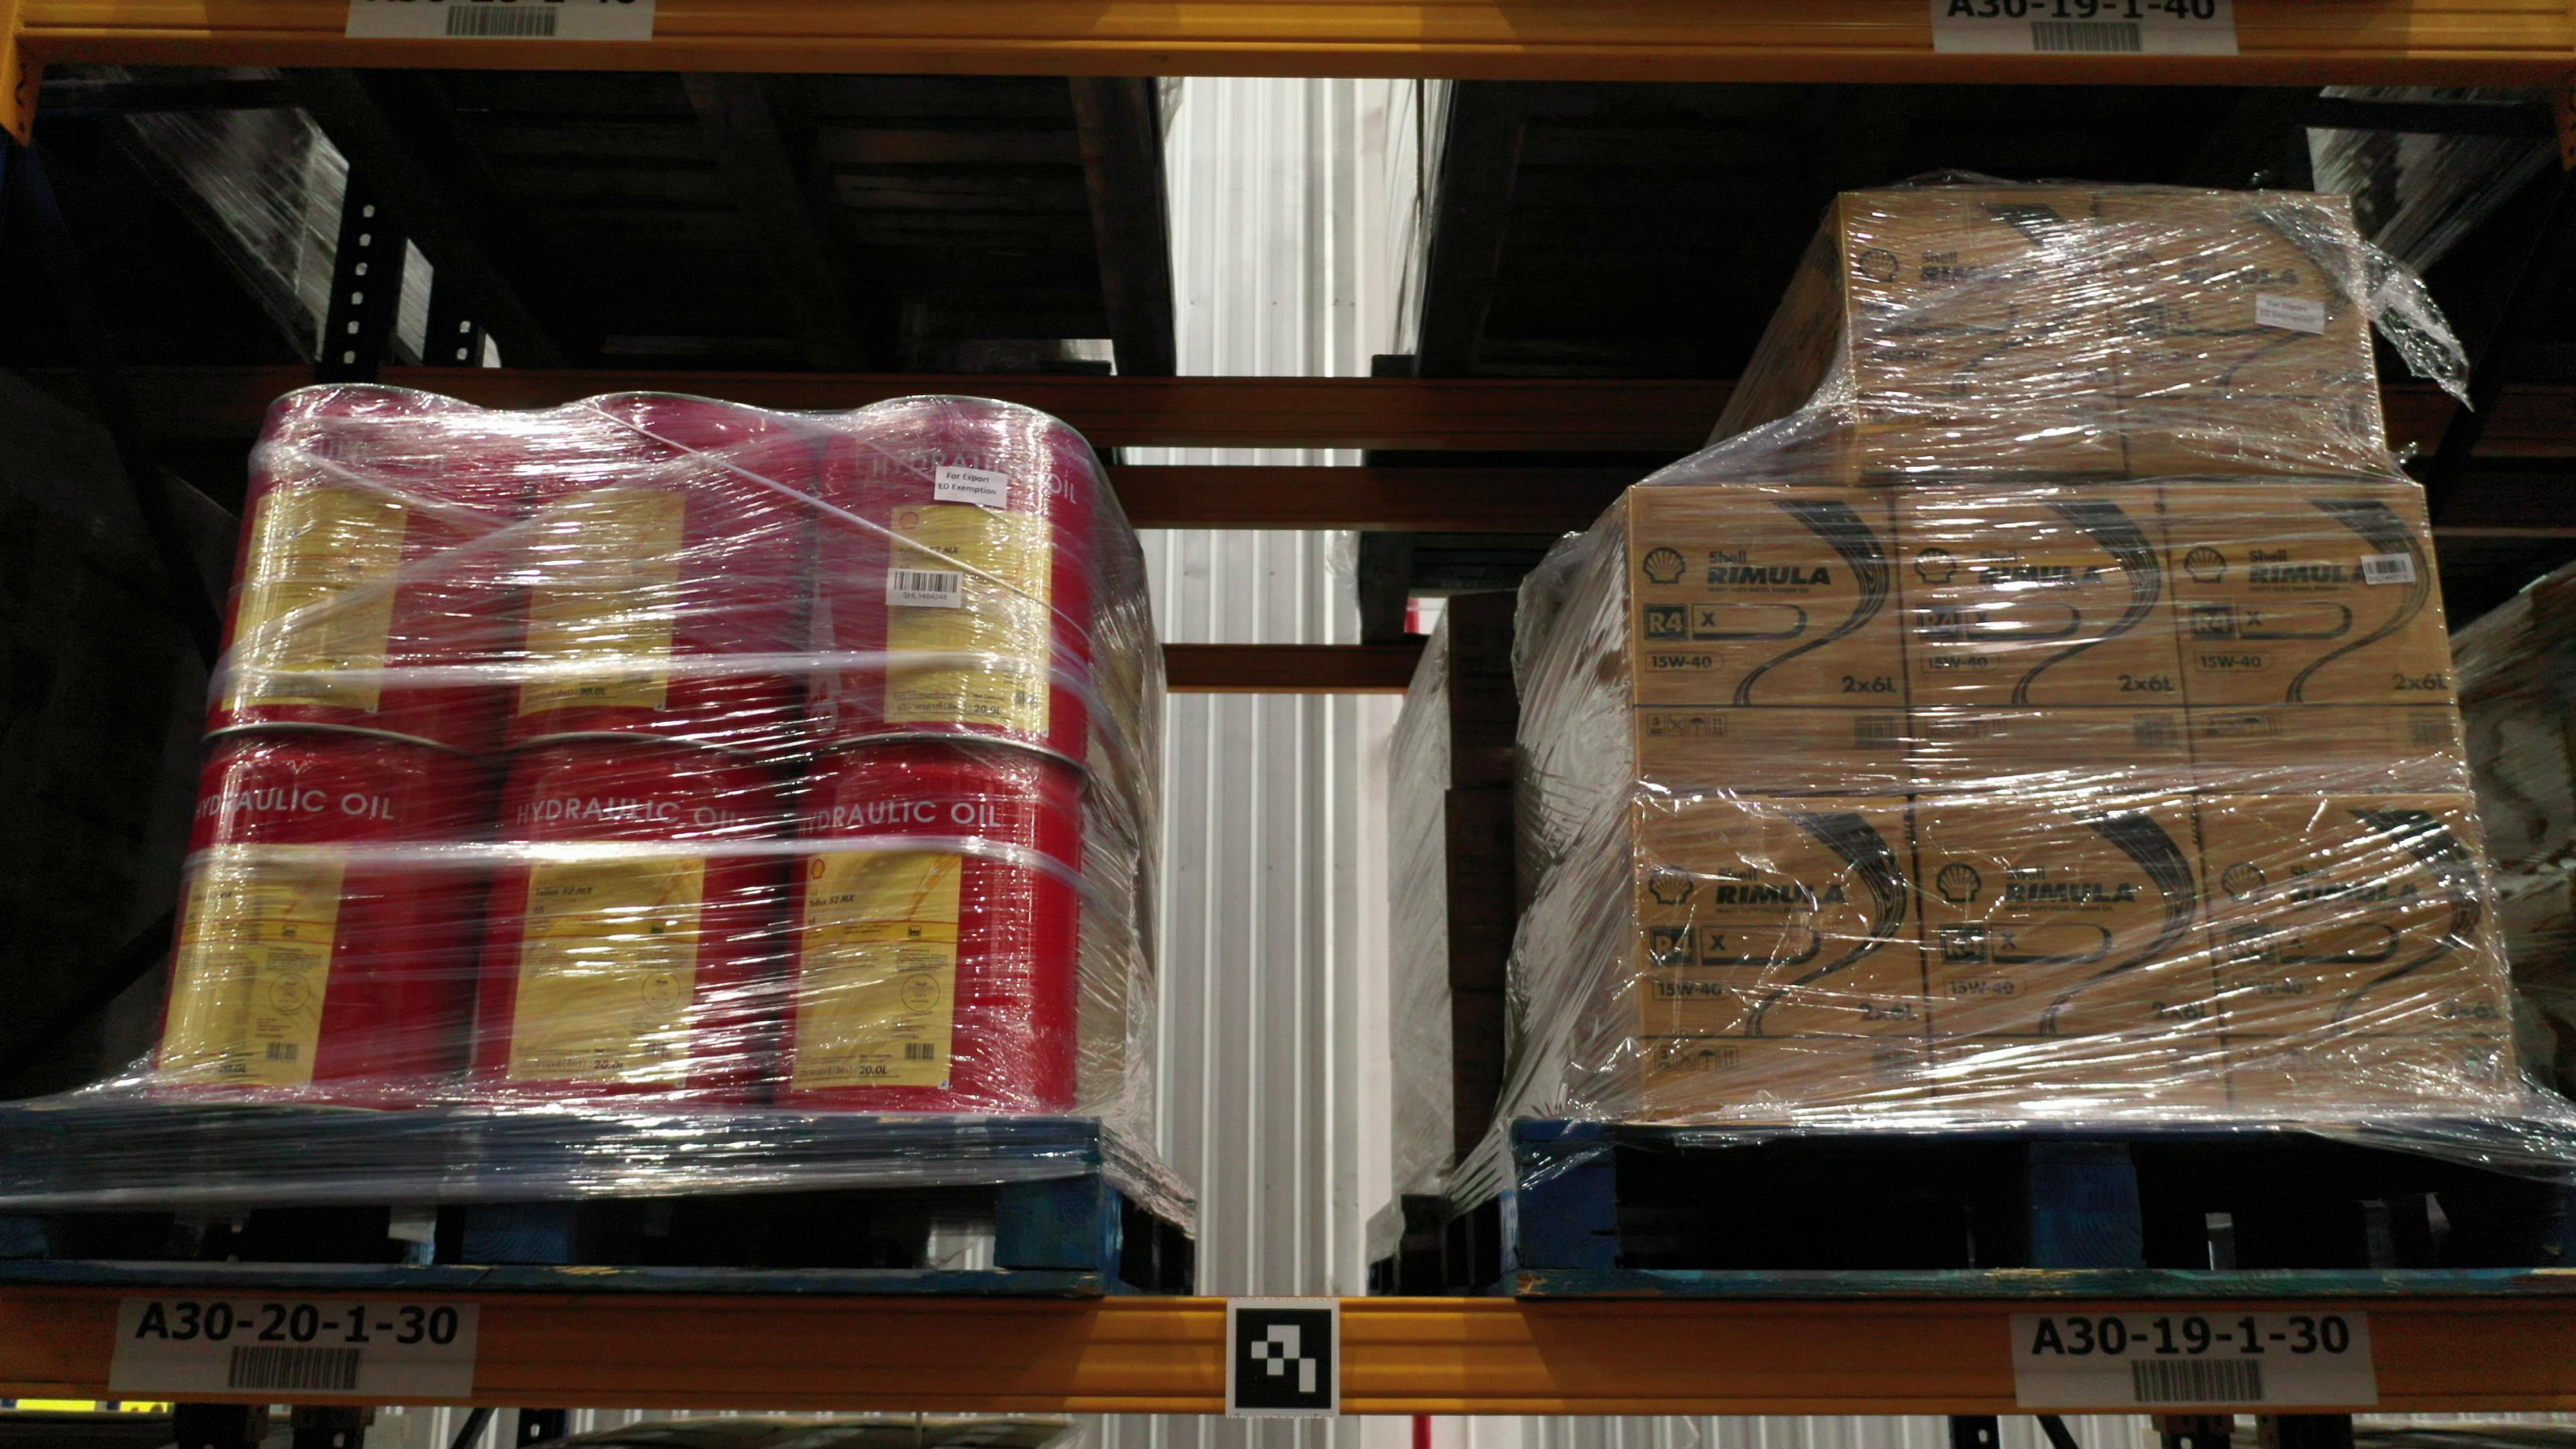-: (145, 722, 488, 1111), (205, 379, 525, 770), (773, 734, 1090, 1120), (467, 734, 780, 1118), (511, 389, 810, 768), (2197, 794, 2534, 1120), (1909, 794, 2235, 1122), (810, 391, 1092, 763), (1635, 794, 1937, 1122), (1897, 483, 2201, 798), (2164, 481, 2468, 794), (1628, 485, 1916, 796), (2100, 189, 2392, 481), (1838, 188, 2128, 481)
